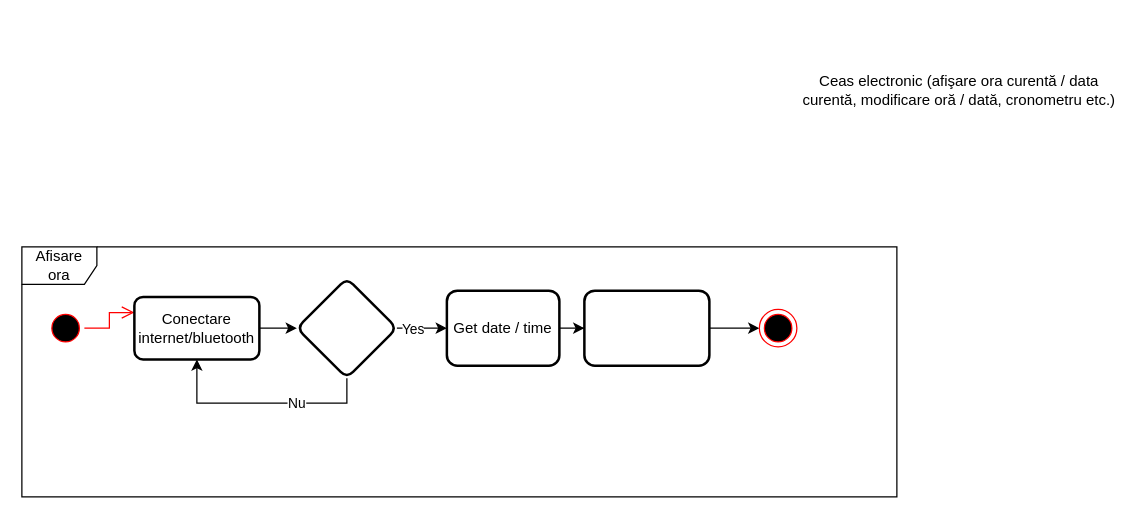
Image size: 1144x519. Some labels were removed from this diagram. The shapes that lost their labels are listed below. From the top down, each one's centre as x and y in pixels, then its label:
At (x=346, y=327): "Conectare reusita".
At (x=646, y=327): "Afisare date / time".
